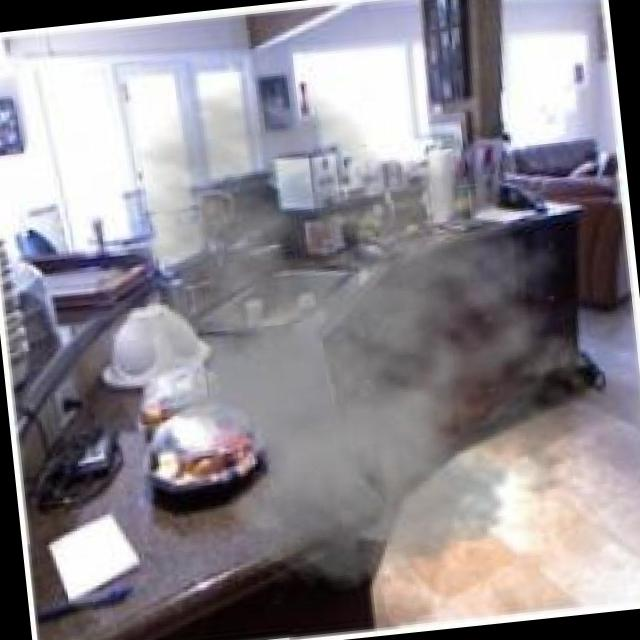Smoke: (55, 49, 632, 621)
